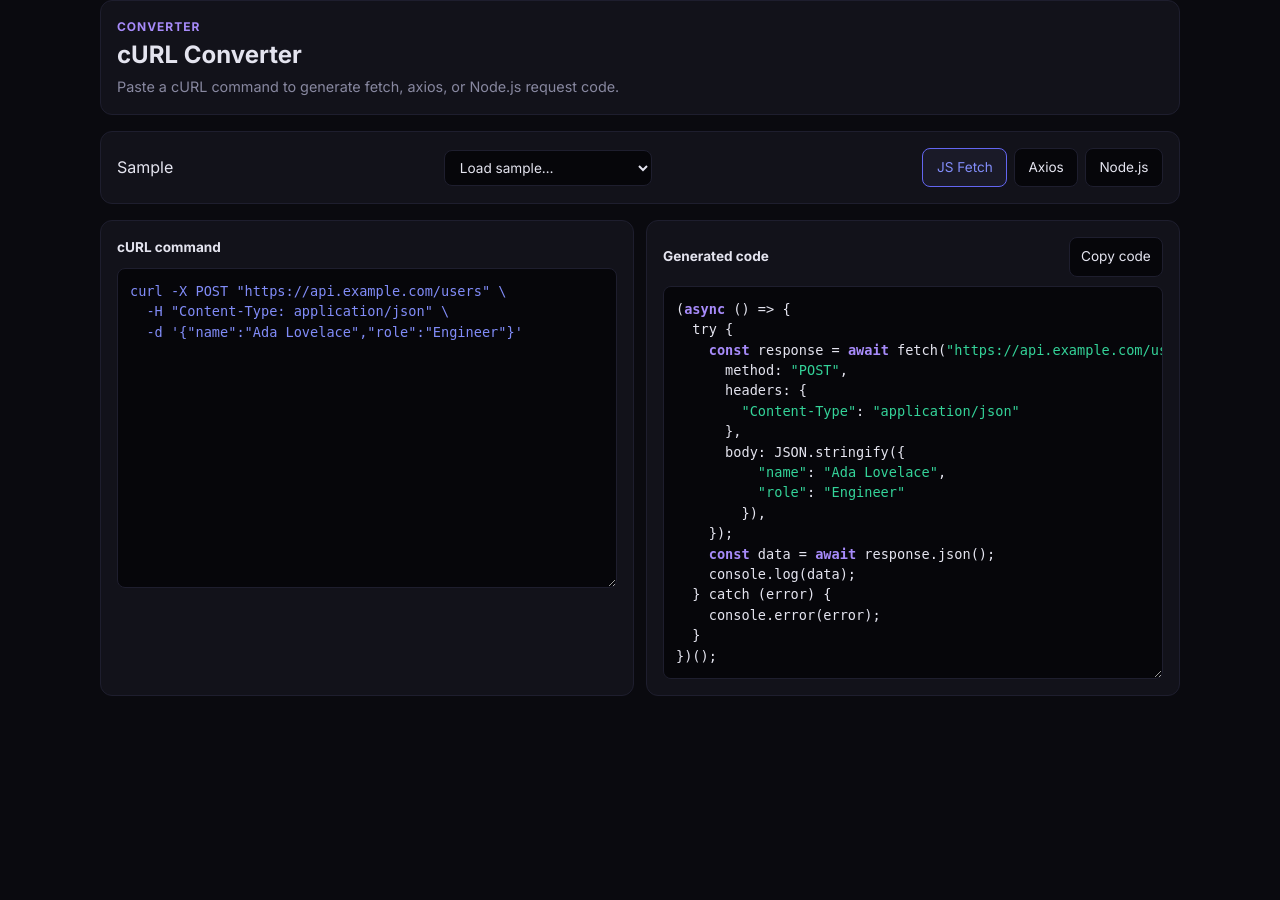
Test: CurlConverterTool › copies the generated code and reports success
Click the button with aria-label "Copy generated code to clipboard".
click(1116, 257)  # box [1069,237,1163,277]
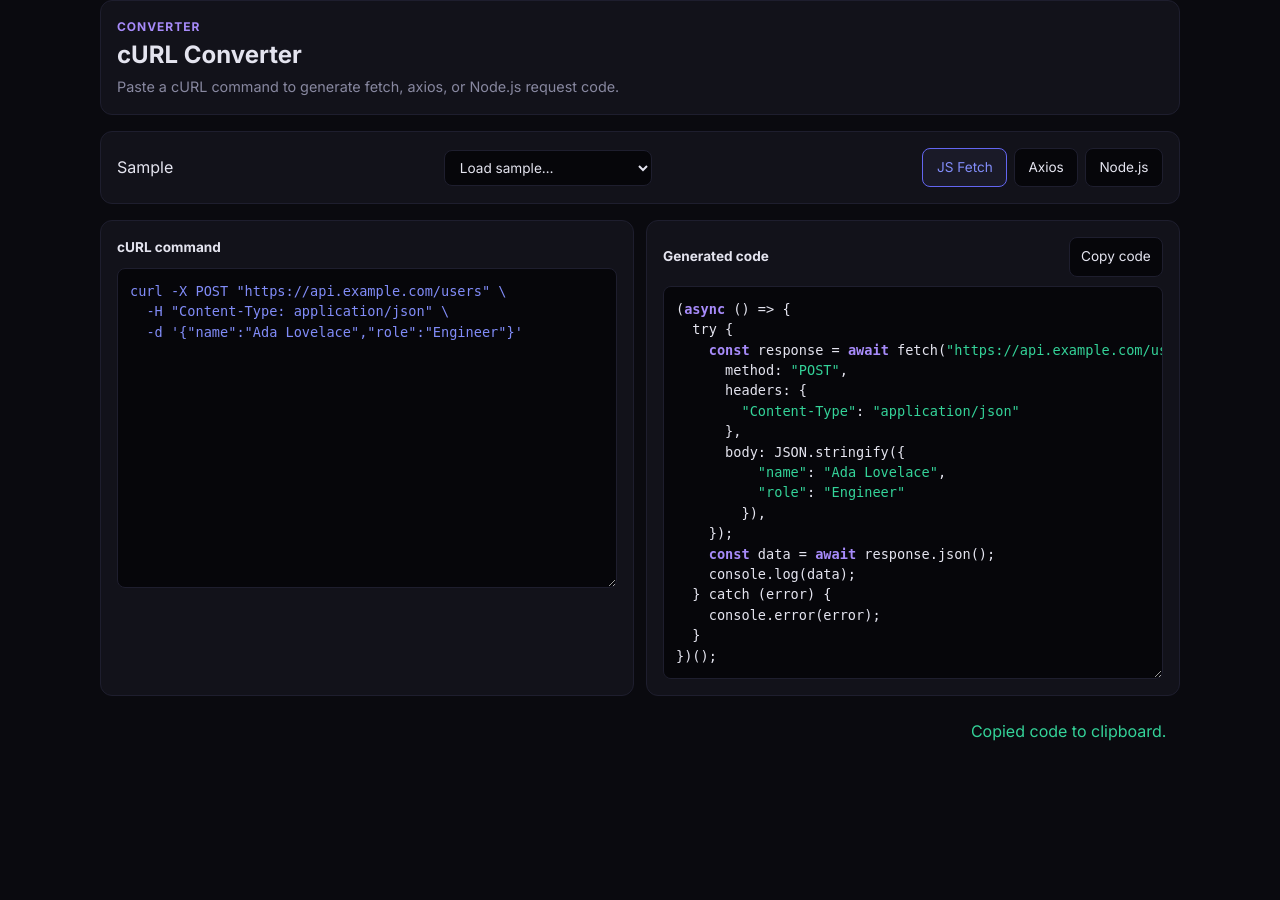
Expected: the message reads "Copied code to clipboard.", [971,721,1166,741]
